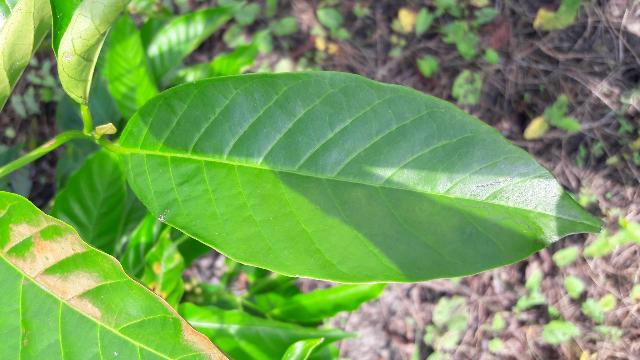healthy: (114, 79, 601, 281)
